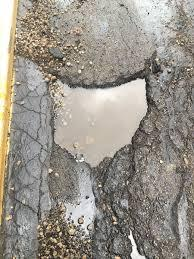alligator-crack: (16, 56, 45, 253)
pothole: (31, 52, 162, 180)
